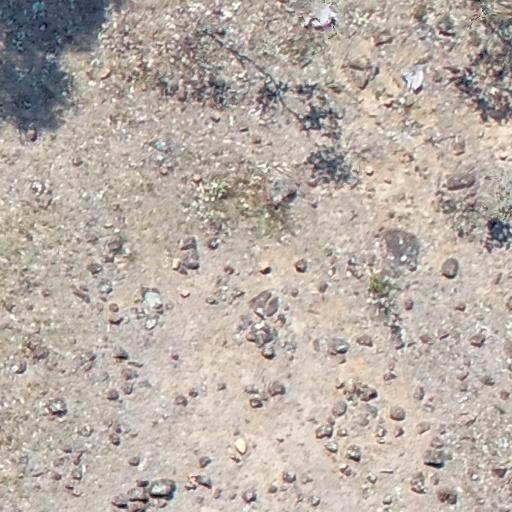stone: (380, 228, 418, 270), (264, 176, 298, 208), (248, 290, 280, 319), (245, 321, 277, 345), (148, 478, 176, 498), (436, 12, 458, 36), (388, 322, 406, 351), (102, 236, 122, 262), (322, 337, 348, 356), (434, 486, 458, 504), (124, 487, 150, 503), (150, 139, 176, 155), (45, 398, 68, 416), (142, 291, 162, 311), (71, 286, 92, 304), (409, 472, 427, 493), (424, 448, 444, 466), (351, 69, 369, 89), (183, 248, 199, 270), (441, 258, 458, 277), (110, 495, 132, 509), (96, 278, 113, 296), (359, 386, 378, 402), (346, 444, 362, 462), (194, 474, 212, 490), (389, 405, 407, 421), (373, 34, 395, 47), (468, 332, 487, 347), (354, 334, 374, 348), (331, 400, 348, 416), (267, 381, 285, 396), (315, 424, 333, 439), (11, 359, 28, 374), (86, 262, 104, 276), (112, 346, 130, 360), (234, 437, 248, 455), (428, 436, 446, 450), (452, 138, 466, 156), (32, 346, 49, 360), (490, 467, 509, 479), (323, 440, 339, 454), (69, 467, 85, 481), (338, 463, 354, 477), (26, 122, 38, 140), (108, 314, 126, 326), (105, 388, 120, 402), (121, 381, 136, 395), (72, 451, 86, 466), (229, 290, 243, 305), (412, 385, 425, 401), (76, 424, 92, 437), (479, 373, 495, 386), (32, 464, 48, 477), (152, 498, 169, 510), (417, 421, 431, 435), (282, 470, 296, 484), (261, 345, 275, 359), (144, 316, 158, 330), (419, 332, 435, 344), (294, 259, 307, 273), (207, 237, 221, 250), (108, 432, 121, 446), (242, 490, 256, 503), (173, 395, 188, 407), (180, 236, 196, 247), (198, 456, 212, 468), (122, 367, 136, 379), (258, 262, 272, 274), (393, 424, 405, 438), (456, 370, 470, 382), (346, 378, 355, 396), (249, 394, 261, 407), (316, 281, 329, 293), (491, 272, 503, 285), (127, 359, 144, 368), (245, 384, 260, 394), (126, 505, 147, 512), (128, 454, 140, 466), (266, 482, 278, 494), (134, 479, 150, 488), (159, 164, 171, 176), (499, 389, 511, 401), (300, 474, 313, 485), (404, 297, 414, 311), (453, 302, 467, 312), (112, 418, 122, 432), (335, 374, 344, 389), (99, 68, 111, 79), (71, 156, 83, 167), (108, 302, 120, 313), (309, 495, 320, 507), (169, 350, 180, 362), (197, 507, 223, 512), (212, 486, 222, 499), (59, 443, 72, 453), (184, 481, 197, 491), (430, 469, 438, 485), (366, 474, 378, 484), (250, 135, 262, 145), (191, 174, 203, 184), (498, 151, 510, 161), (85, 350, 95, 362), (237, 123, 249, 133), (438, 328, 448, 340), (229, 454, 241, 464), (364, 165, 375, 175), (337, 428, 348, 438), (180, 288, 191, 298), (404, 96, 414, 107), (210, 110, 220, 121), (51, 470, 62, 480), (205, 296, 217, 305), (227, 489, 236, 501), (177, 88, 185, 101), (38, 22, 48, 32), (82, 362, 92, 372), (188, 388, 198, 398), (382, 495, 393, 504), (196, 494, 205, 505), (129, 429, 140, 438), (378, 468, 394, 474), (439, 421, 446, 434), (216, 382, 226, 391), (172, 258, 180, 268), (103, 220, 113, 228), (382, 176, 392, 184), (5, 301, 12, 312), (407, 340, 416, 348), (459, 383, 468, 391), (65, 480, 74, 488), (73, 488, 81, 496), (471, 473, 479, 481), (383, 99, 392, 106), (141, 82, 147, 92), (378, 428, 385, 436), (378, 438, 386, 444), (276, 436, 284, 442), (222, 293, 226, 301)
